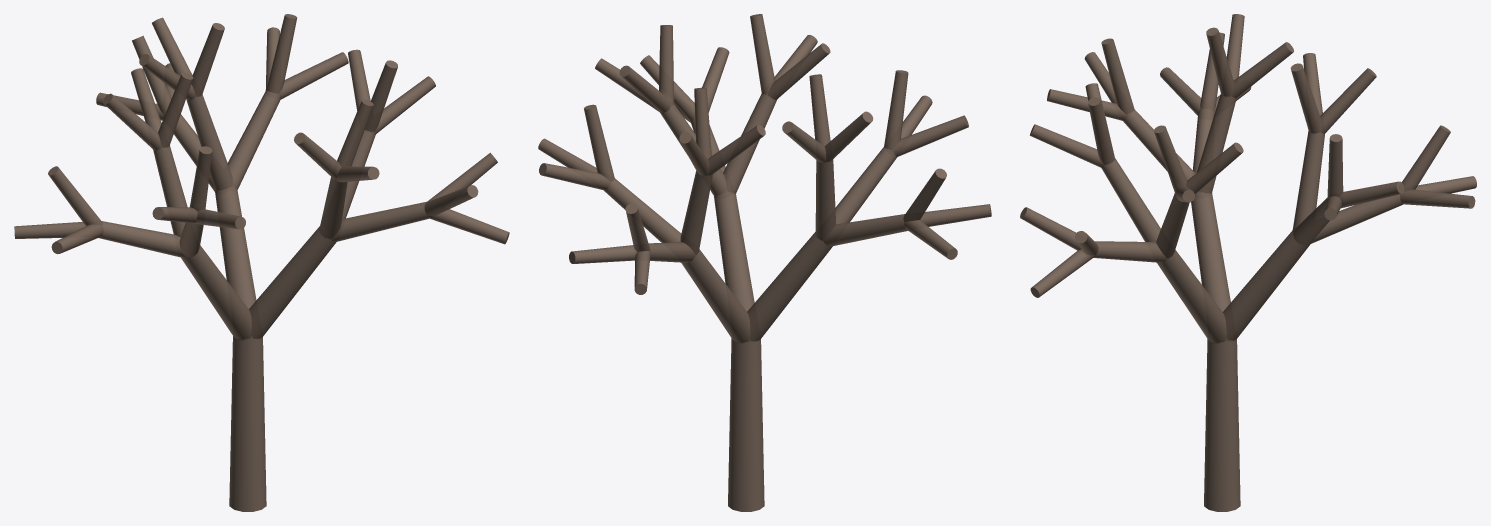
File: fractaltree1_3.glb
3 renders of one model, left to right at view 1: azimuth 30°, elevation 25°; view 2: azimuth 150°, elevation 25°; view 3: azimuth 270°, elevation 25°, orthographic.
Bounding box in the file's own units: 7.61 × 8.13 × 7.61.
